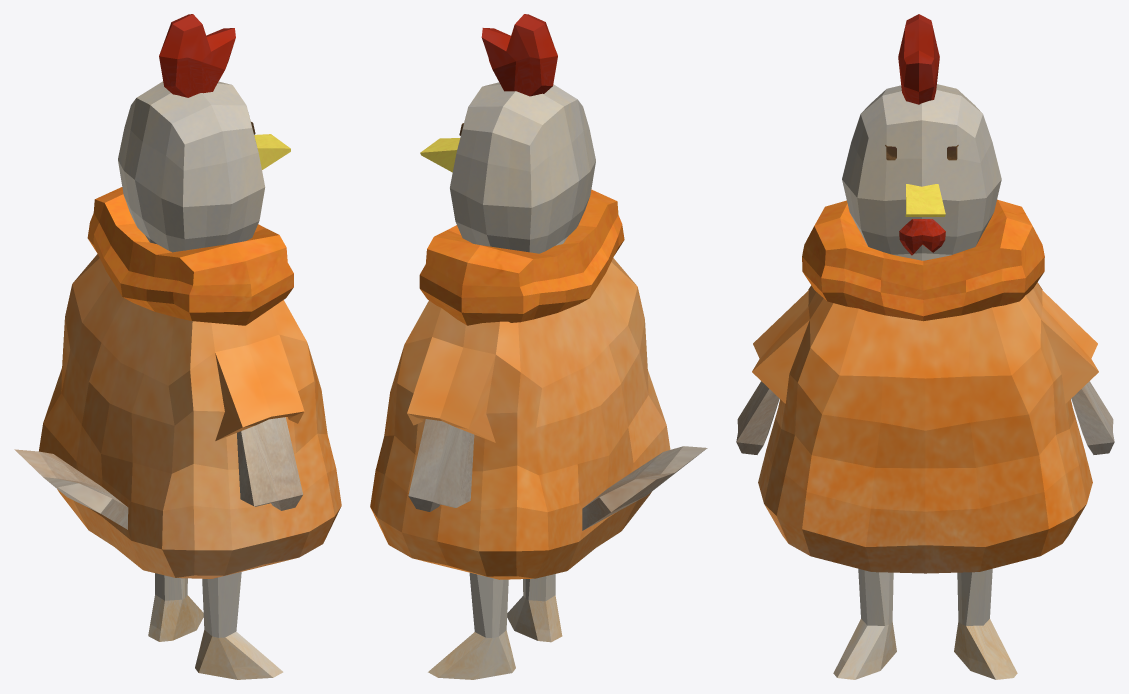
File: gallinaestatua.glb
The picture shows the model from 3 angles, left to right: view 1: azimuth 30°, elevation 25°; view 2: azimuth 150°, elevation 25°; view 3: azimuth 270°, elevation 25°; orthographic projection.
Visible parts, largest first — view 1: Cube.045; view 2: Cube.045; view 3: Cube.045.
Boxes of the visible parts, x1,y1,x2,y2 form: Cube.045: (14,14,341,679); Cube.045: (370,14,707,679); Cube.045: (736,14,1114,679).
Bounding box in the file's own units: 1.26 × 3.08 × 1.65.
Materials: 7 (7 with a texture image).
